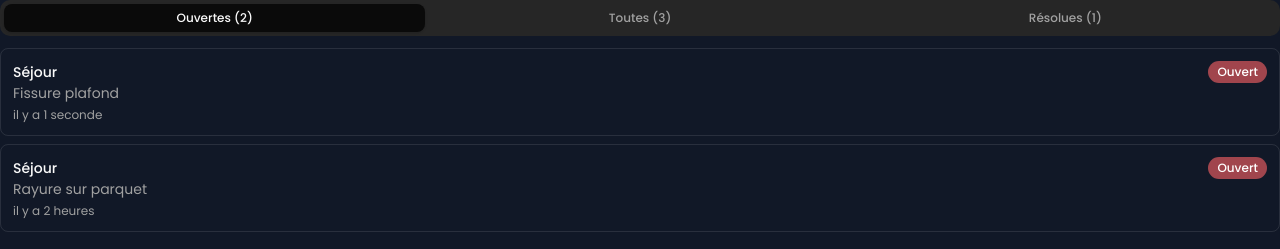
Test: ReservationsList › shows only resolved reservations when "Résolues" tab is clicked
The width and height of the screenshot is (1280, 249).
expect the text "Fissure plafond" is shown: met, box [13,83,119,103]
Click the tab "Résolues (1)".
click(1065, 18)  # box [855,4,1276,32]
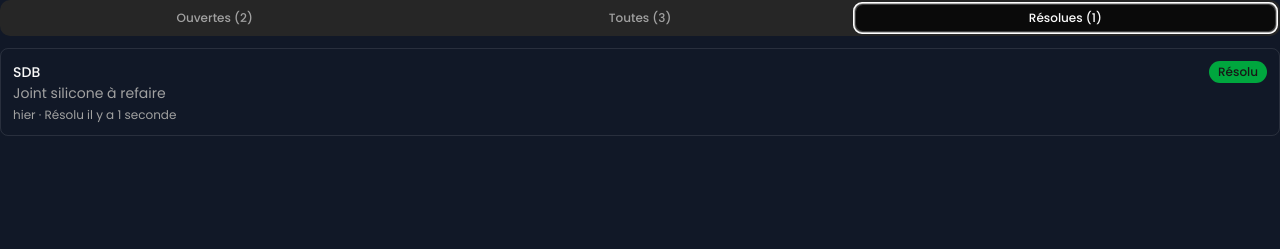
expect the button "Fissure plafond" is gone: met
expect the text "Joint silicone à refaire" is shown: met, box [13,83,166,103]
expect the button "Rayure sur parquet" is gone: met
